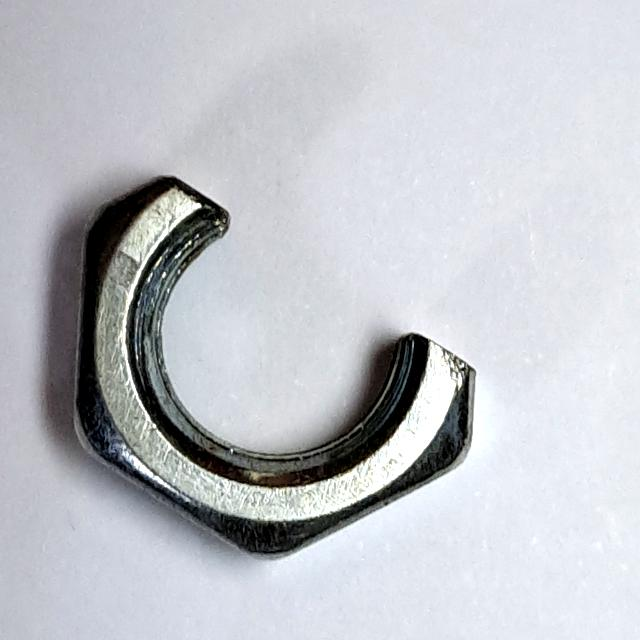Fracture: (57, 160, 491, 581)
